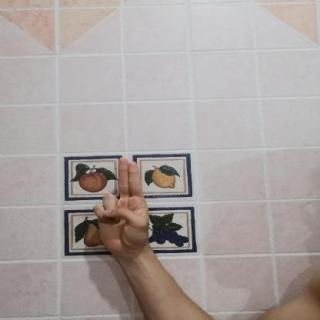TA: (83, 152, 166, 261)
